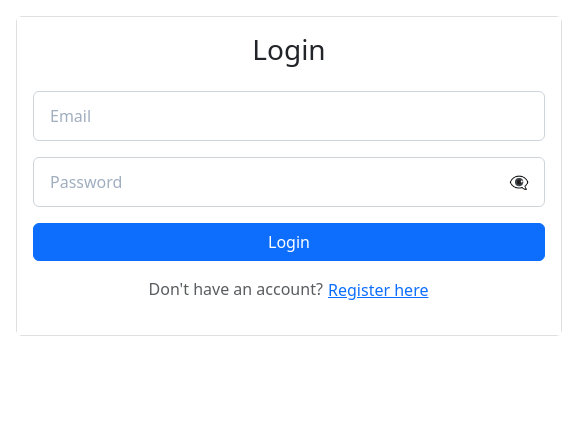
Login Component › displays error message on failed authentication
Step 1. Type "test@example.com" into the field with placeholder "Email" → (289, 116), box [33,91,545,141]
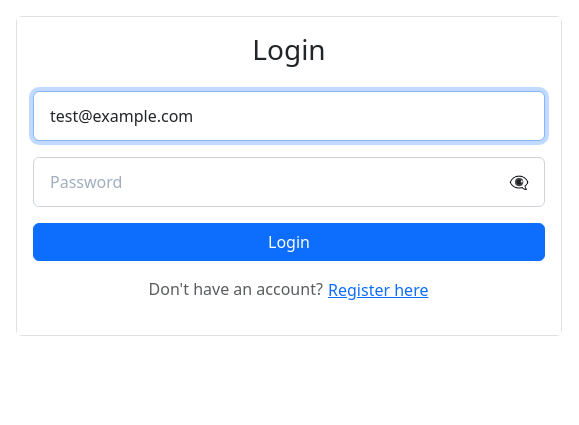
Step 2. Type "wrongpassword" into the password field with placeholder "Password" → (289, 182), box [33,157,545,207]
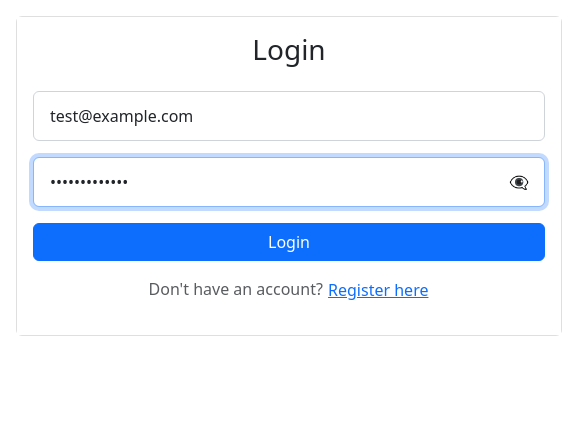
Step 3. Click the button "Login" → (289, 242), box [33,223,545,261]
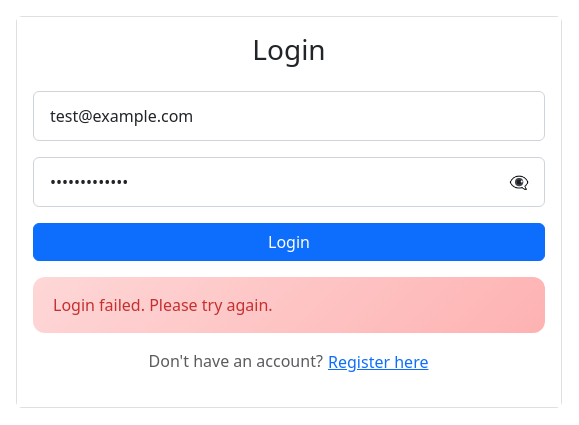
Expected: the text "Login failed. Please try again." is shown, [33,277,545,333]
